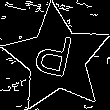P_S: (34, 30, 80, 88)
